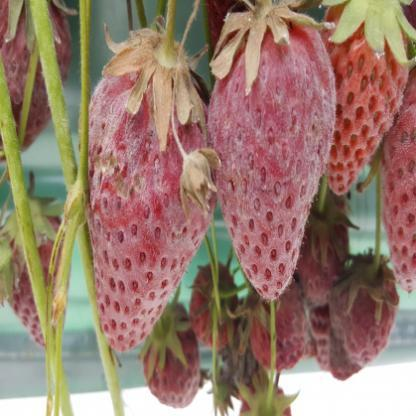Strawberry_Powdery_Mildew_Fruit: (79, 24, 218, 353), (206, 6, 334, 302), (320, 0, 412, 195), (0, 0, 72, 160), (379, 60, 415, 294)
